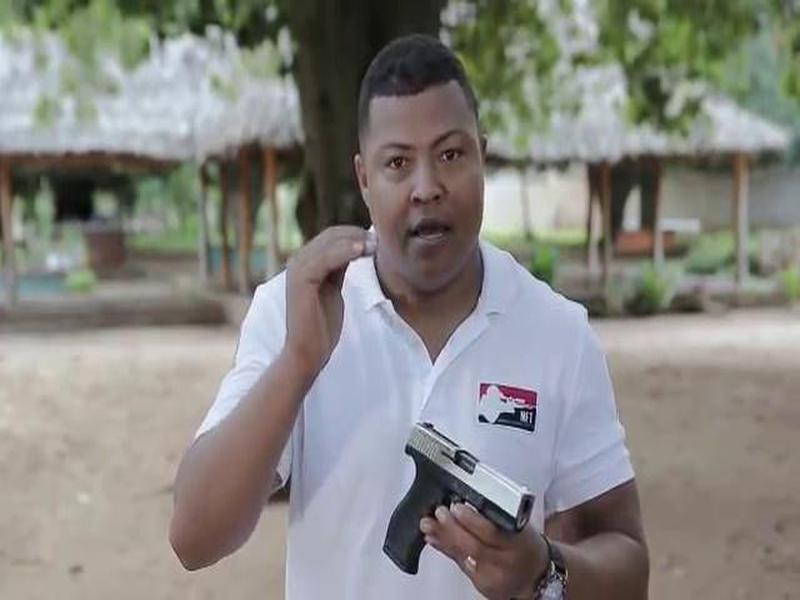Pistola: (376, 417, 538, 581)
